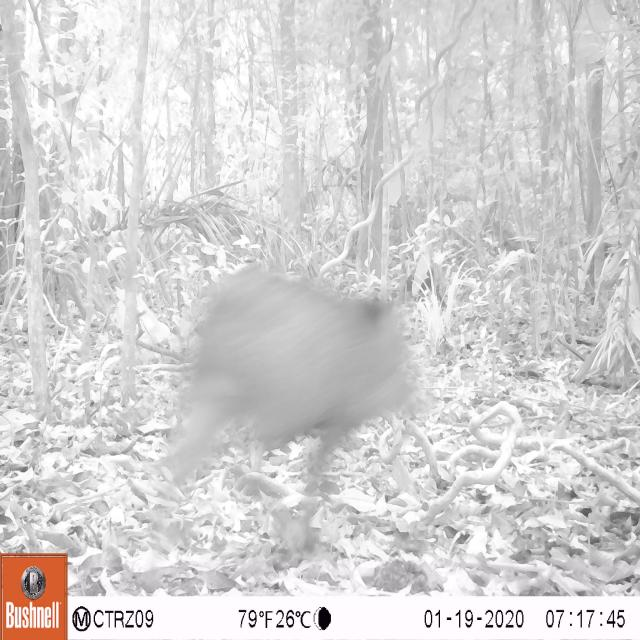Collared Peccary: (165, 255, 421, 518)
